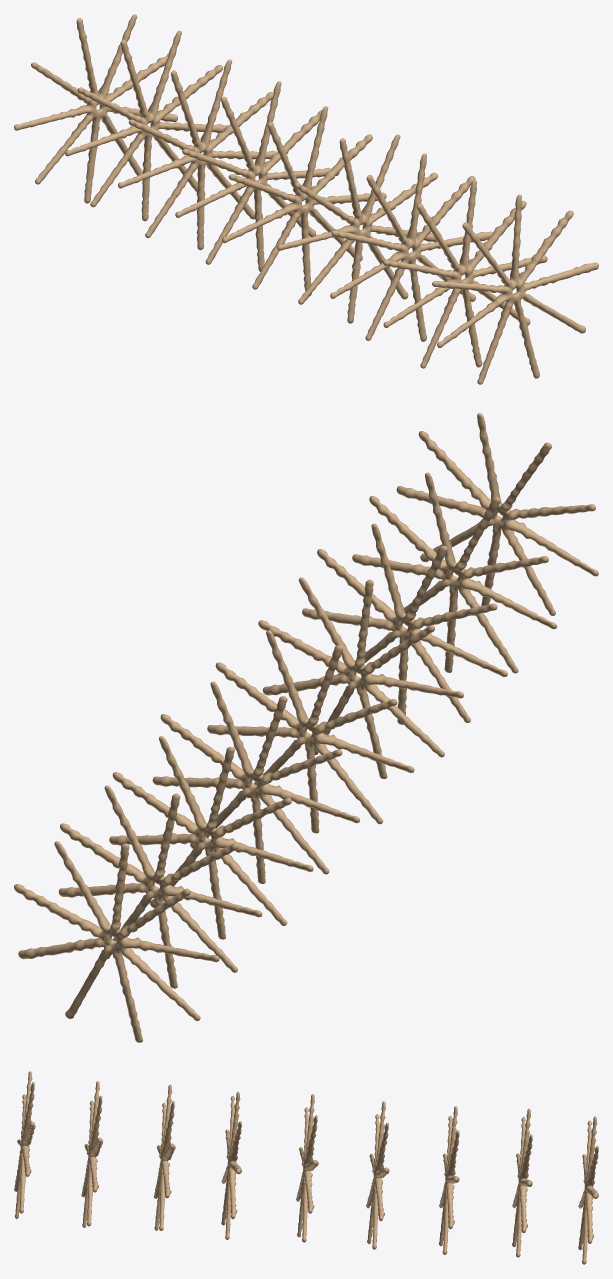
File: centriole1.fbx
3 renders of one model, top to bottom at view 1: azimuth 30°, elevation 25°; view 2: azimuth 150°, elevation 25°; view 3: azimuth 270°, elevation 25°, orthographic. The views are drawn at different scales.
Parts seen in each view (by area): view 1: Centriole_1; view 2: Centriole_1; view 3: Centriole_1.
Part boxes in pixels (x1,y1,x2,y2): Centriole_1: (14,14,598,384); Centriole_1: (14,413,598,1042); Centriole_1: (14,1071,598,1264).
Bounding box in the file's own units: 90.97 × 103 × 282.
